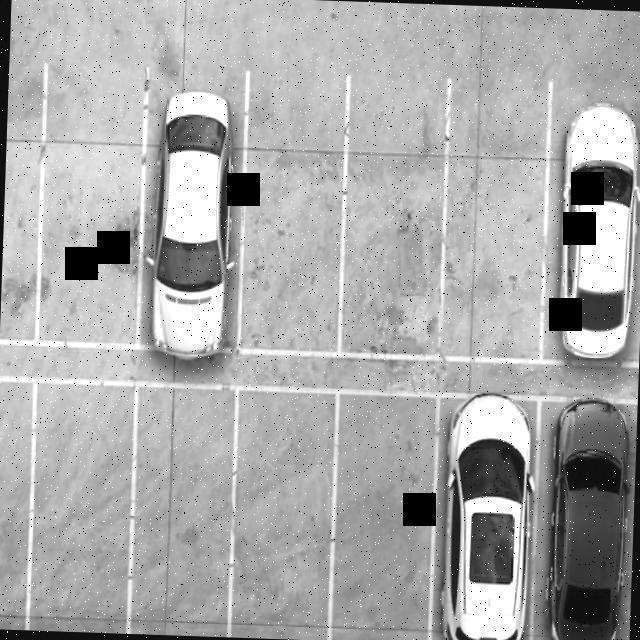space-empty: (436, 75, 555, 365), (336, 71, 453, 364), (31, 70, 149, 352), (235, 72, 350, 358), (225, 387, 341, 640), (23, 384, 139, 634), (124, 385, 239, 637), (323, 395, 439, 640)
space-occupied: (134, 67, 252, 362), (537, 78, 640, 369), (424, 388, 542, 640), (527, 398, 637, 640)
